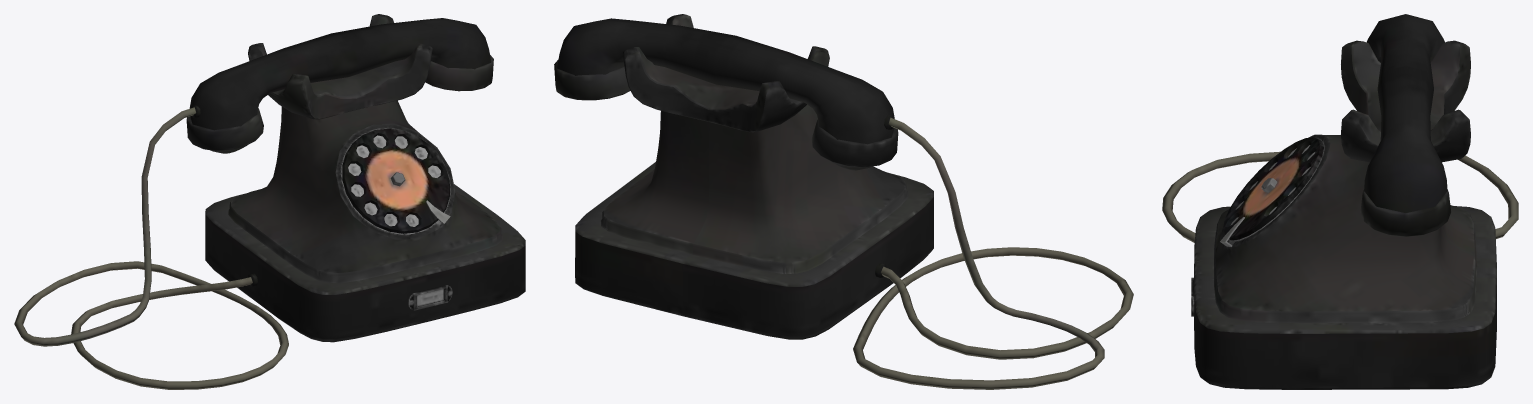
File: d_telefono_viejo.glb
The picture shows the model from 3 angles, left to right: view 1: azimuth 30°, elevation 25°; view 2: azimuth 150°, elevation 25°; view 3: azimuth 270°, elevation 25°; orthographic projection. The views are drawn at different scales.
Visible parts, largest first — view 1: Cube.003_Material.001_0; view 2: Cube.003_Material.001_0; view 3: Cube.003_Material.001_0.
Boxes of the visible parts, x1,y1,x2,y2 form: Cube.003_Material.001_0: [14, 14, 525, 389]; Cube.003_Material.001_0: [554, 14, 1133, 389]; Cube.003_Material.001_0: [1162, 14, 1518, 389].
Bounding box in the file's own units: 0.4432 × 0.2 × 0.2447.
1 material, 1 textured.
